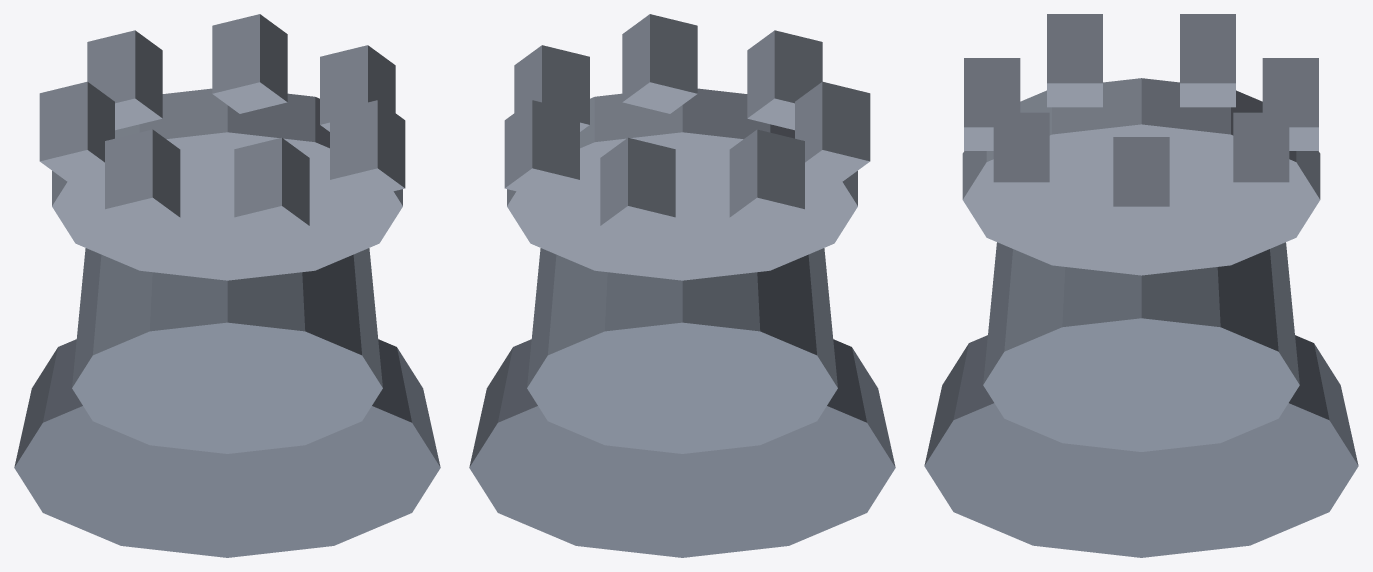
Rendered from bastion.gltf.
3 renders of one model, left to right at view 1: azimuth 30°, elevation 25°; view 2: azimuth 150°, elevation 25°; view 3: azimuth 270°, elevation 25°, orthographic.
Visible parts, largest first — view 1: Bastion; view 2: Bastion; view 3: Bastion.
Part boxes in pixels (x1,y1,x2,y2): Bastion: [14, 14, 440, 557]; Bastion: [469, 14, 895, 557]; Bastion: [924, 14, 1358, 557].
Bounding box in the file's own units: 1.7 × 1.65 × 1.7.
